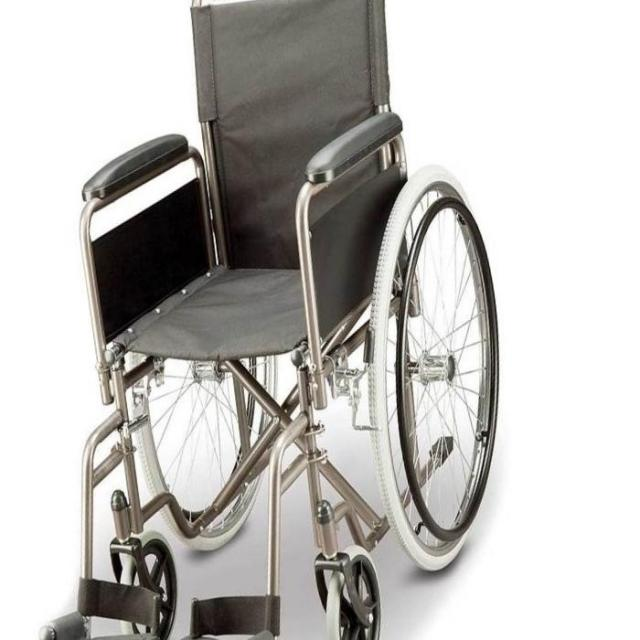wheelchair: (43, 0, 514, 640)
